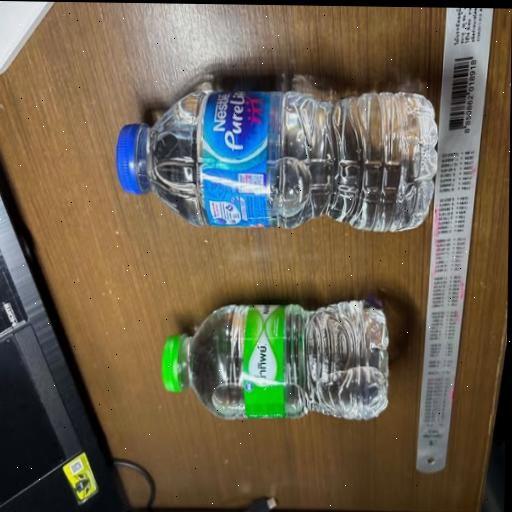bottle: (96, 44, 443, 245), (141, 256, 406, 457)
